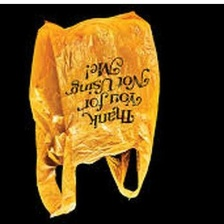plastic_bag: (18, 8, 163, 220)
